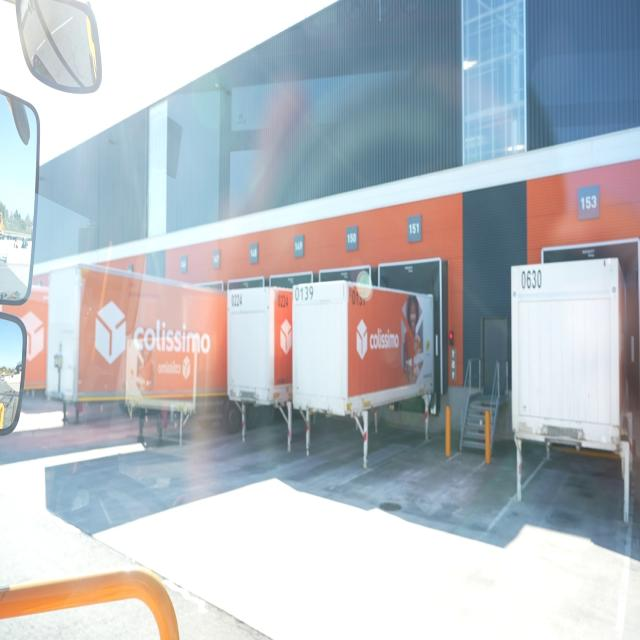Code: (518, 265, 546, 295), (348, 285, 370, 312), (228, 288, 251, 313), (292, 284, 316, 304)
